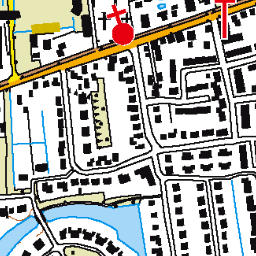church: (103, 2, 137, 49)
